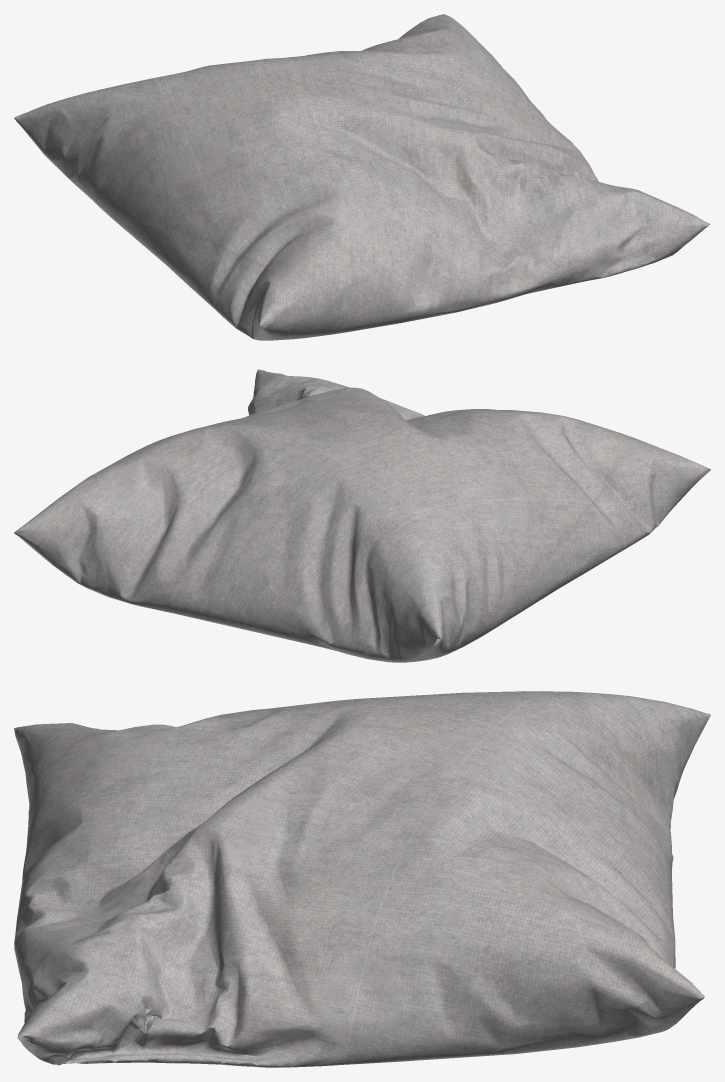
The model's file is pillow.glb.
3 views of the same model, one above another, from view 1: azimuth 30°, elevation 25°; view 2: azimuth 150°, elevation 25°; view 3: azimuth 270°, elevation 25° (orthographic). The views are drawn at different scales.
Visible parts, largest first — view 1: Mesh_0.007; view 2: Mesh_0.007; view 3: Mesh_0.007.
Boxes of the visible parts, <box> form: Mesh_0.007: <box>14,14,710,340</box>; Mesh_0.007: <box>14,369,710,662</box>; Mesh_0.007: <box>14,691,710,1067</box>.
Bounding box in the file's own units: 869 × 243 × 860.
1 material, 1 textured.
